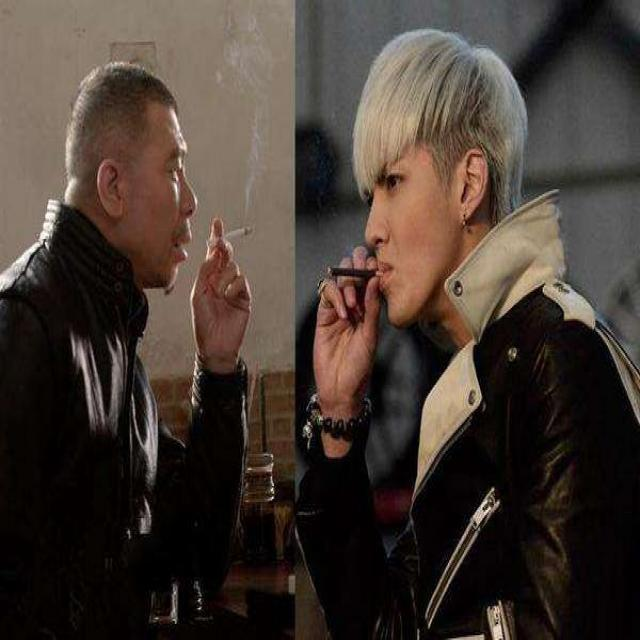smoke: (224, 222, 260, 243)
